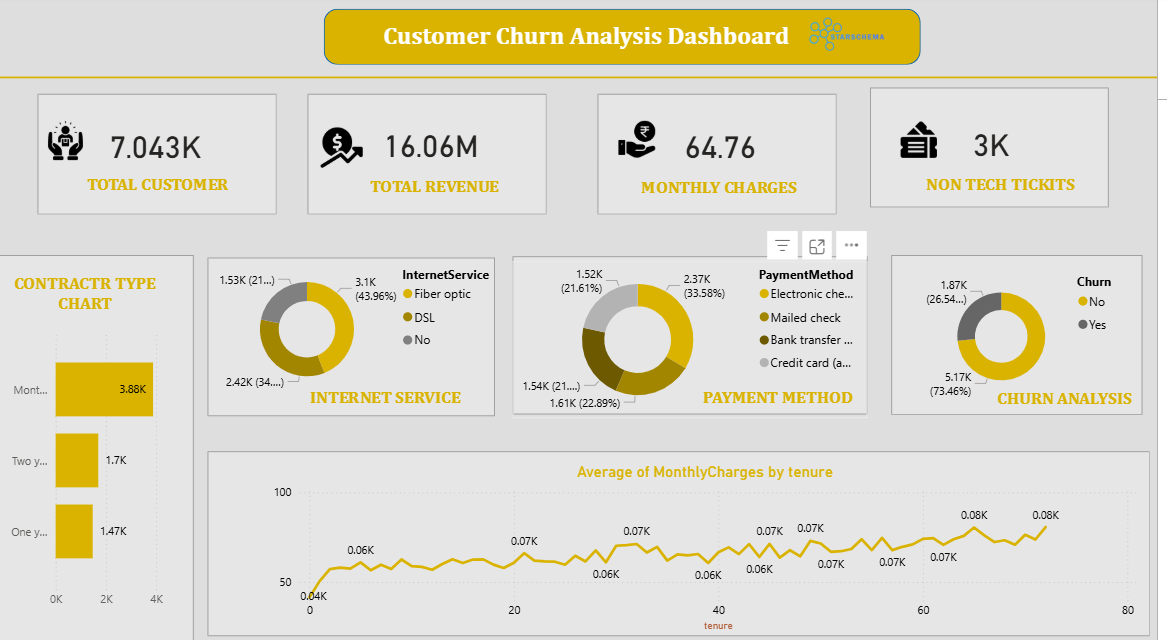

The dashboard page shown, as its layout file describes it:
{"tool":"powerbi","page":{"name":"Page 1","canvas":[1280,720],"ordinal":0},"visuals":[{"type":"shape","box":[46.7,108.4,263.5,133.1],"z":0},{"type":"shape","box":[362.3,15.1,657.3,61.7],"z":1000},{"type":"textbox","box":[422.6,23.3,537.9,46.7],"z":2000},{"type":"image","box":[808.2,15.1,260.7,56.3],"z":3000},{"type":"shape","box":[0,72.7,1280.3,35.7],"z":4000},{"type":"cardVisual","fields":{"Data":["CountNonNull(main.customerID)"]},"box":[108.8,123.9,148.7,71.6],"z":5000},{"type":"textbox","box":[59.2,192.7,239.5,45.4],"z":6000},{"type":"shape","box":[344.4,108.4,263.5,133.1],"z":7000},{"type":"shape","box":[664.2,108.4,263.5,133.1],"z":8000},{"type":"shape","box":[963.7,101.9,262.9,132.2],"z":9000},{"type":"cardVisual","fields":{"Data":["Sum(main.TotalCharges)"]},"box":[410.2,122.5,150.1,71.6],"z":10000},{"type":"cardVisual","fields":{"Data":["Sum(main.numTechTickets)"]},"box":[1060,121.1,90.9,71.6],"z":11000},{"type":"cardVisual","fields":{"Data":["Avg(main.MonthlyCharges)"]},"box":[742.4,123.5,149.6,71.4],"z":12000},{"type":"textbox","box":[986.6,192.1,240.1,46.7],"z":13000},{"type":"textbox","box":[677.9,194.9,240.1,46.7],"z":14000},{"type":"textbox","box":[373.1,194.1,221.6,45.4],"z":15000},{"type":"shape","box":[234,289.1,316.6,174.8],"z":16000},{"type":"donutChart","fields":{"Category":["main.InternetService"],"Y":["CountNonNull(main.customerID)"]},"box":[234,293.2,323.5,150.1],"z":17000},{"type":"textbox","box":[310.1,426.8,240.1,46.7],"z":18000},{"type":"shape","box":[569.5,288.2,391.1,174.3],"z":19000},{"type":"donutChart","fields":{"Category":["main.PaymentMethod"],"Y":["CountNonNull(main.customerID)"]},"box":[569.5,293.7,391.1,172.9],"z":20000},{"type":"textbox","box":[742.4,426.8,240.1,46.7],"z":21000},{"type":"shape","box":[987.1,286.3,276.7,176.2],"z":22000},{"type":"donutChart","fields":{"Category":["main.Churn"],"Y":["CountNonNull(main.customerID)"]},"box":[1019.6,301.9,234.6,149.6],"z":23000},{"type":"textbox","box":[1092.3,428.1,171.5,46.7],"z":24000},{"type":"shape","box":[234,502.5,1038,203.7],"z":25000},{"type":"lineChart","fields":{"Category":["main.tenure"],"Y":["Avg(main.MonthlyCharges)"]},"box":[301.5,514.9,960.9,191.4],"z":26000},{"type":"shape","box":[0,286.3,218.9,433.6],"z":27000},{"type":"barChart","title":"CONTRACT TYPE CHART","fields":{"Category":["main.Contract"],"Y":["CountNonNull(main.customerID)"]},"box":[0,360.7,216.1,323.5],"z":28000},{"type":"textbox","box":[0,301.5,198.2,59.2],"z":29000},{"type":"image","box":[46.8,133.5,61.9,53.7],"z":30000},{"type":"image","box":[353.8,139,56.4,56.4],"z":31000},{"type":"image","box":[677.3,130.8,59.2,56.4],"z":32000},{"type":"image","box":[992.6,132.2,49.6,55.1],"z":33000}]}

Visuals, with their boxes in screenshot pixels (x1, y1, x2, y2), scaled from the page's 1280x720 canvas onto the 1167x640 screenshot:
shape: (43,96,283,215)
shape: (330,13,930,68)
textbox: (385,21,876,62)
image: (737,13,975,63)
shape: (0,65,1166,96)
cardVisual - CountNonNull(main.customerID): (99,110,235,174)
textbox: (54,171,272,212)
shape: (314,96,554,215)
shape: (606,96,846,215)
shape: (879,91,1118,208)
cardVisual - Sum(main.TotalCharges): (374,109,511,173)
cardVisual - Sum(main.numTechTickets): (966,108,1049,171)
cardVisual - Avg(main.MonthlyCharges): (677,110,813,173)
textbox: (900,171,1118,212)
textbox: (618,173,837,215)
textbox: (340,173,542,213)
shape: (213,257,502,412)
donutChart - main.InternetService x CountNonNull(main.customerID): (213,261,508,394)
textbox: (283,379,502,421)
shape: (519,256,876,411)
donutChart - main.PaymentMethod x CountNonNull(main.customerID): (519,261,876,415)
textbox: (677,379,896,421)
shape: (900,254,1152,411)
donutChart - main.Churn x CountNonNull(main.customerID): (930,268,1143,401)
textbox: (996,381,1152,422)
shape: (213,447,1160,628)
lineChart - main.tenure x Avg(main.MonthlyCharges): (275,458,1151,628)
shape: (0,254,200,639)
"CONTRACT TYPE CHART" barChart: (0,321,197,608)
textbox: (0,268,181,321)
image: (43,119,99,166)
image: (323,124,374,174)
image: (618,116,671,166)
image: (905,118,950,166)
